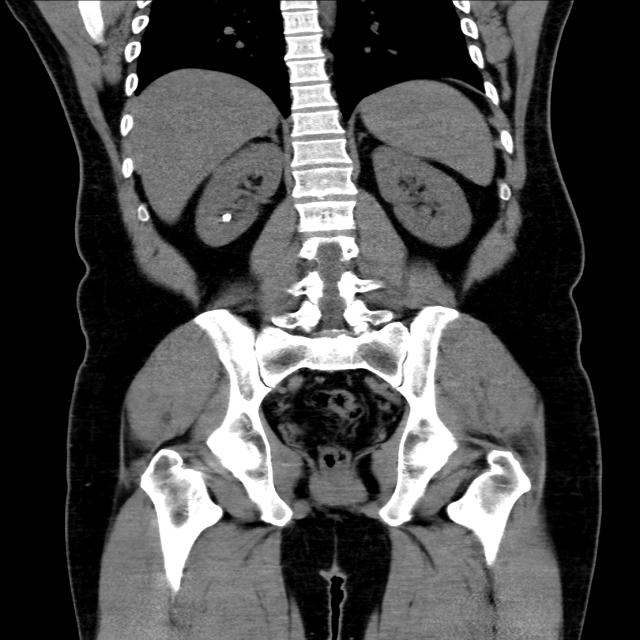kidneystone: (221, 212, 232, 222)
